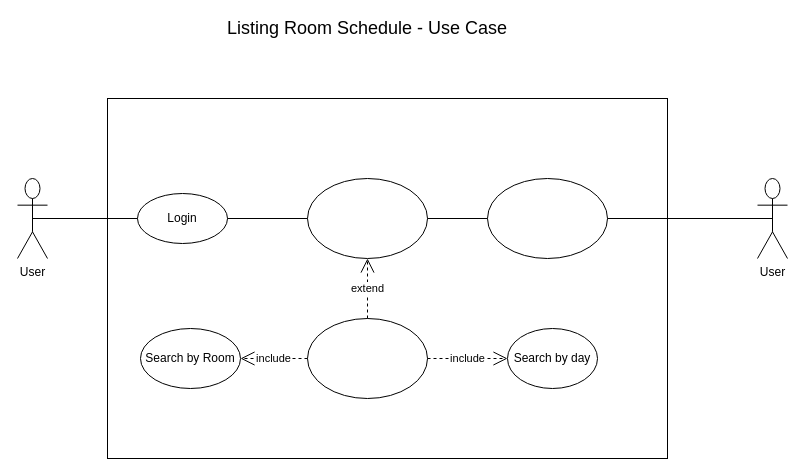
Image size: 805x476. Some labels were removed from this diagram. The shapes that lost their labels are listed below. From the top down, each one's box as (x1, y1, x2, y2) in pixels, then its label:
(306, 178, 428, 258): Searching for Rooms
(486, 178, 608, 258): Logout
(306, 318, 428, 398): Searching for Room Schedule
